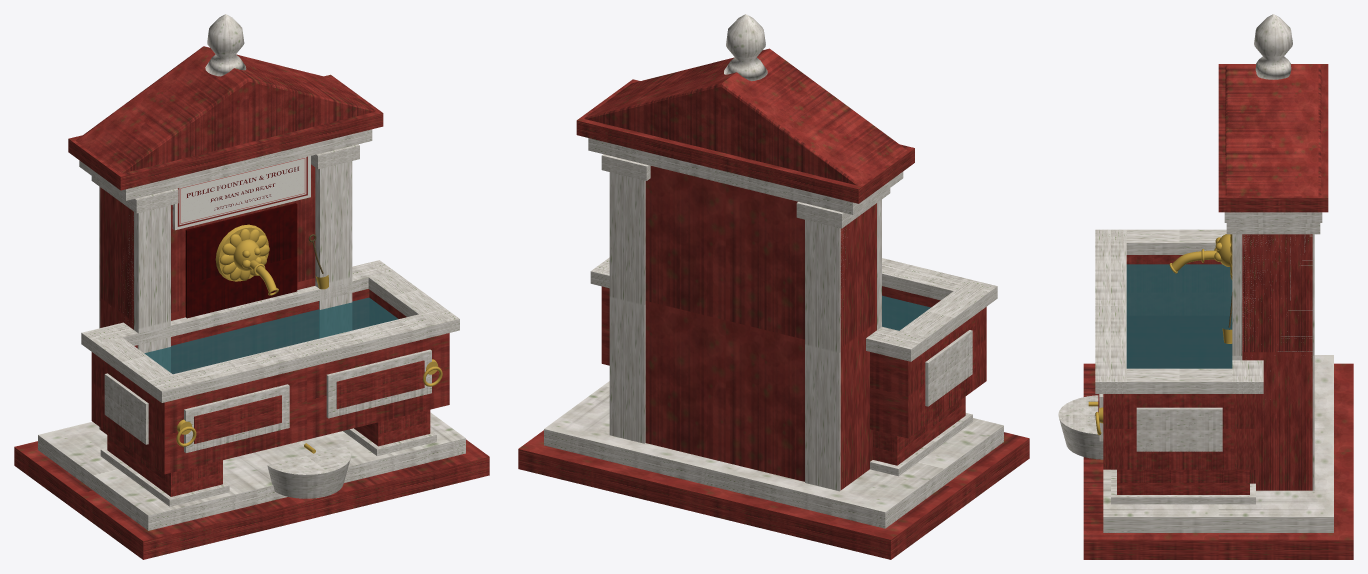
The model's file is colonial_stone_fountain.glb.
3 views of the same model, side by side, from view 1: azimuth 30°, elevation 25°; view 2: azimuth 150°, elevation 25°; view 3: azimuth 270°, elevation 25° (orthographic). The views are drawn at different scales.
Visible parts, largest first — view 1: Carved_Stone_Stele, Carved_Stone_Basin, British_Colonial_Stone_Fountain_Trough, Brass_Lion_Spout_Assembly; view 2: Carved_Stone_Stele, British_Colonial_Stone_Fountain_Trough, Carved_Stone_Basin; view 3: British_Colonial_Stone_Fountain_Trough, Carved_Stone_Stele, Carved_Stone_Basin, Brass_Lion_Spout_Assembly.
Boxes of the visible parts, x1,y1,x2,y2 form: Carved_Stone_Stele: (68,14,383,434); Carved_Stone_Basin: (81,260,459,474); British_Colonial_Stone_Fountain_Trough: (14,234,489,559); Brass_Lion_Spout_Assembly: (215,224,278,295); Carved_Stone_Stele: (576,14,914,491); British_Colonial_Stone_Fountain_Trough: (518,295,1029,559); Carved_Stone_Basin: (590,257,997,438); British_Colonial_Stone_Fountain_Trough: (1058,264,1353,559); Carved_Stone_Stele: (1218,14,1328,490); Carved_Stone_Basin: (1095,229,1263,469); Brass_Lion_Spout_Assembly: (1169,234,1232,279).
Bounding box in the file's own units: 2.14 × 2.58 × 1.51.
7 materials, 4 textured.
